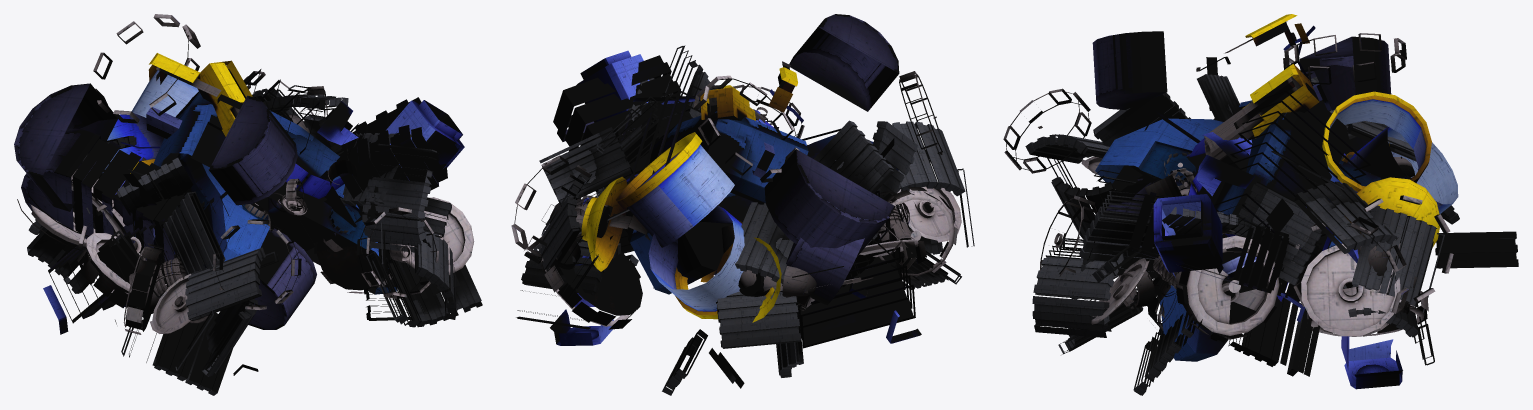
The model's file is PlayerB_die12.obj.
3 renders of one model, left to right at view 1: azimuth 30°, elevation 25°; view 2: azimuth 150°, elevation 25°; view 3: azimuth 270°, elevation 25°, orthographic. The views are drawn at different scales.
Visible parts, largest first — view 1: Object005; view 2: Object005; view 3: Object005.
Boxes of the visible parts, x1,y1,x2,y2 form: Object005: (14, 14, 482, 395); Object005: (511, 14, 974, 395); Object005: (1003, 14, 1518, 395).
Size of the model in its own units: 183 by 130 by 207.
2 materials, 2 textured.
